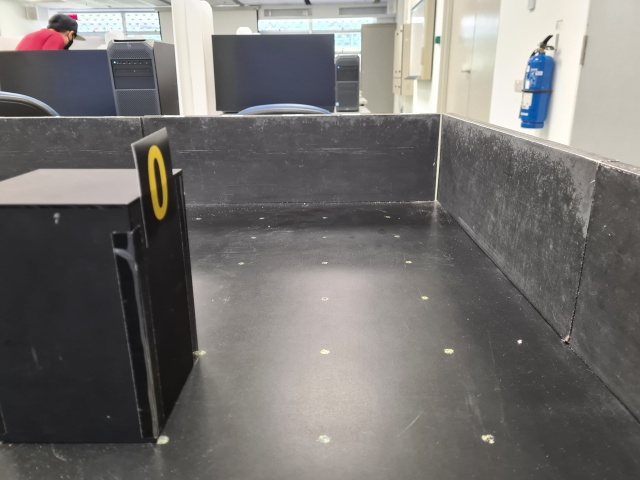zero: (131, 126, 177, 248)
